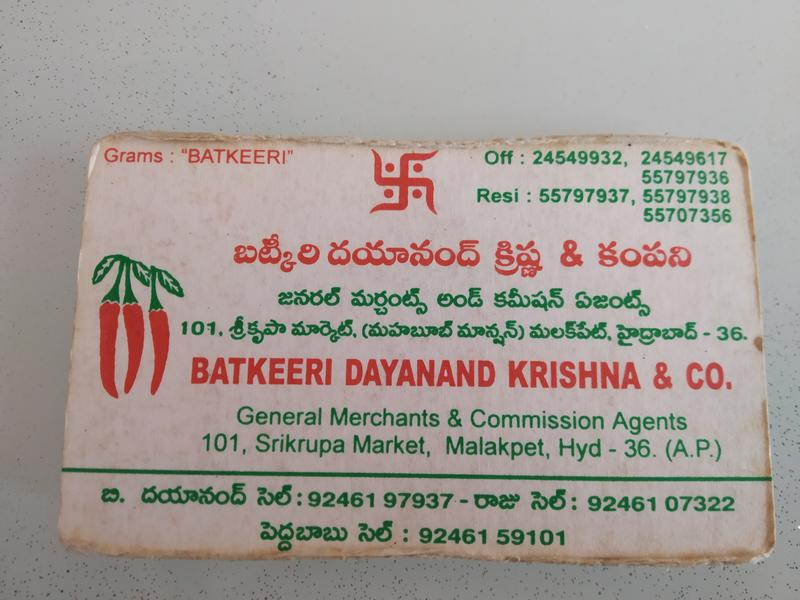card: (66, 132, 773, 561)
